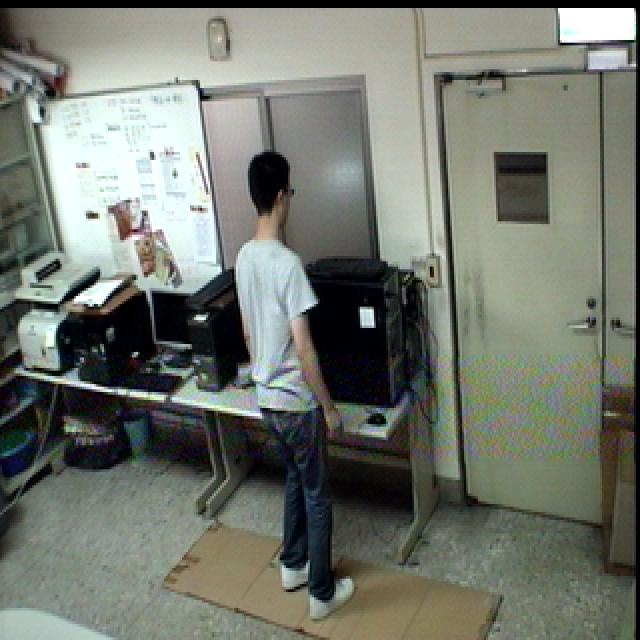stand: (230, 141, 361, 634)
